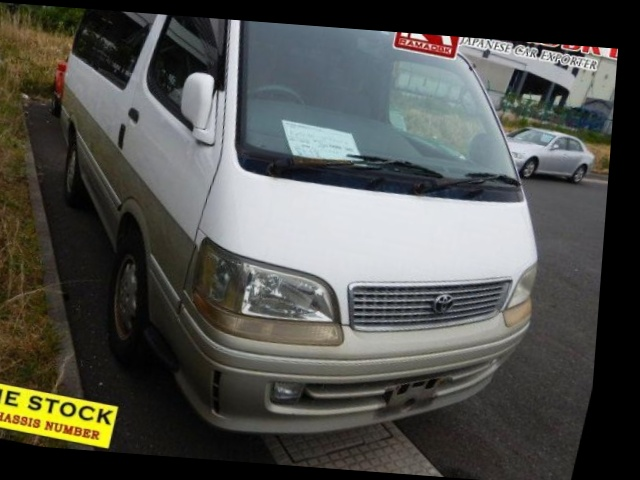van: (0, 3, 603, 480)
